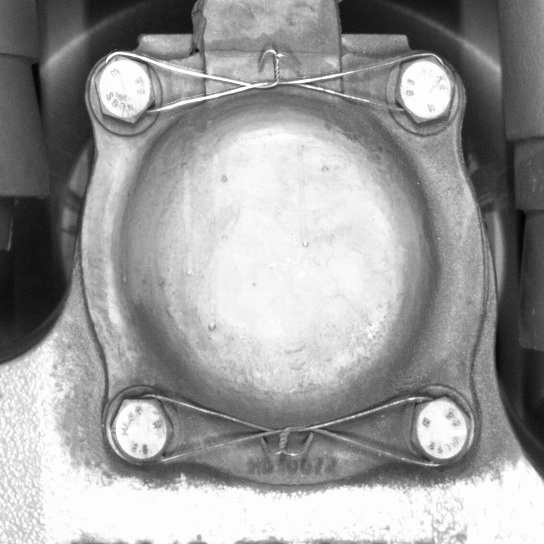IronWire: (100, 385, 482, 475), (86, 47, 463, 130)
Screw: (99, 389, 184, 474), (400, 386, 482, 472), (386, 49, 461, 131), (85, 48, 159, 131)
